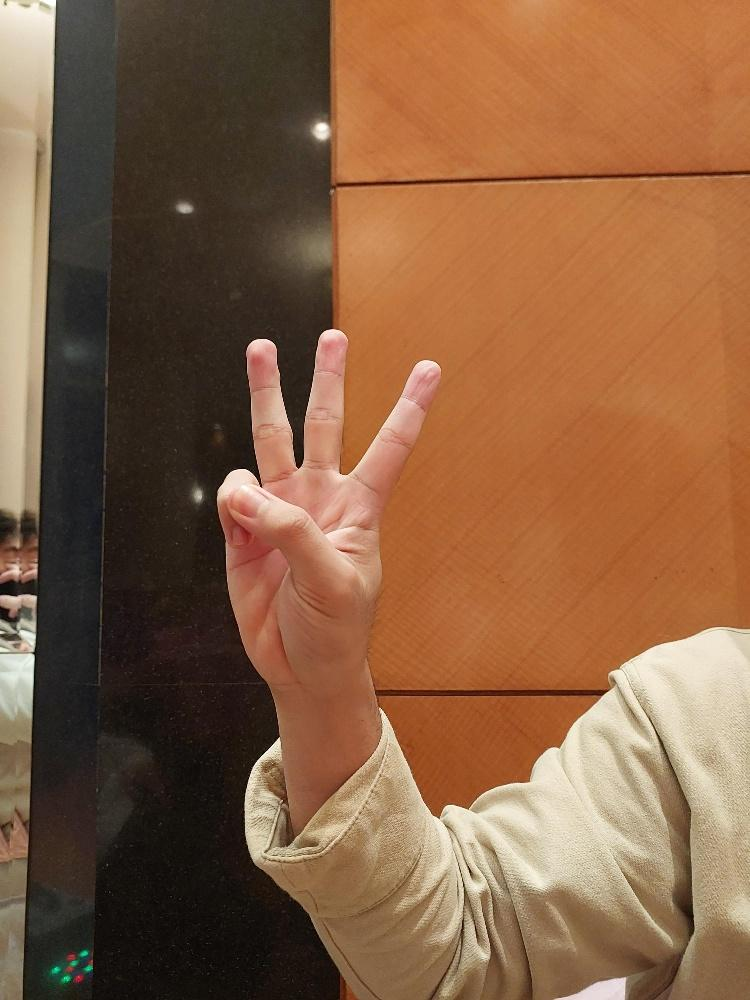w: (211, 326, 444, 689)
